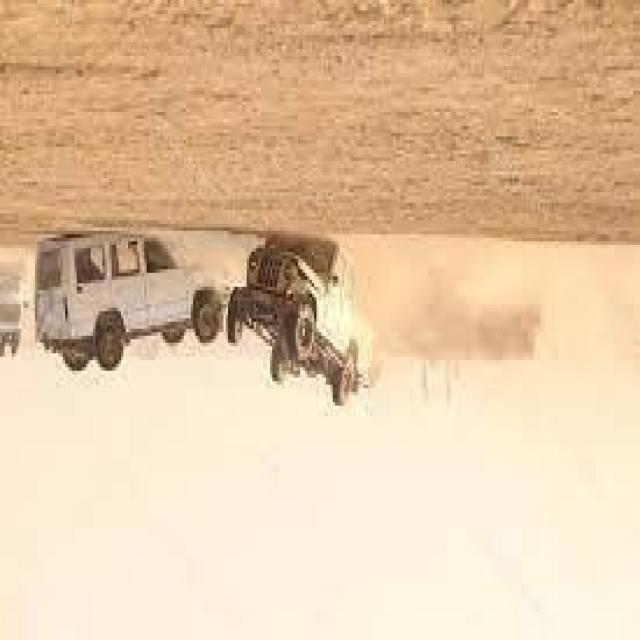severe: (29, 230, 225, 388), (224, 238, 390, 417)
